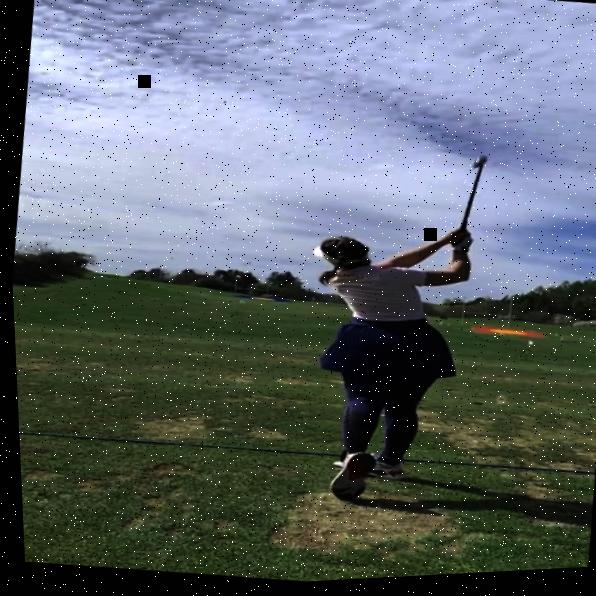ClubHead: (472, 159, 486, 174)
